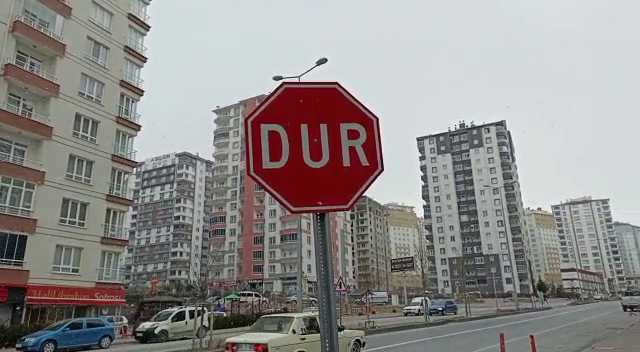stop: (239, 78, 389, 218)
